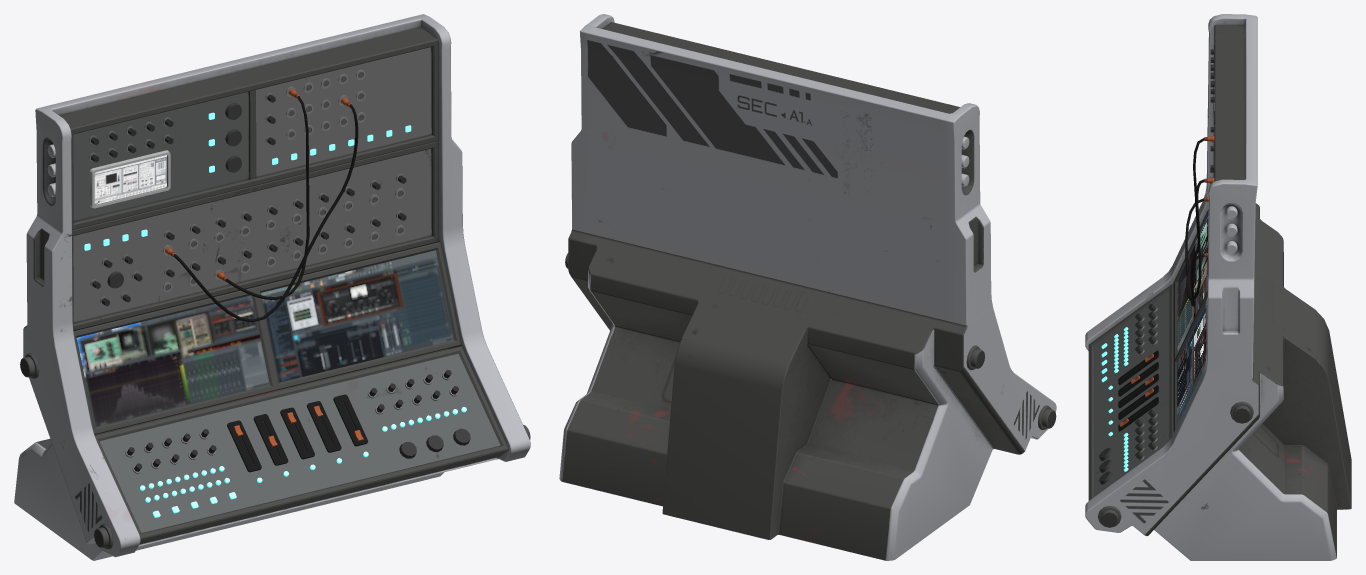
The model's file is synth_machine.fbx.
The picture shows the model from 3 angles, left to right: view 1: azimuth 30°, elevation 25°; view 2: azimuth 150°, elevation 25°; view 3: azimuth 270°, elevation 25°; orthographic projection. The views are drawn at different scales.
Visible parts, largest first — view 1: Object_3, Object_4, Object_2; view 2: Object_4, Object_3; view 3: Object_4, Object_3, Object_2.
Boxes of the visible parts, x1,y1,x2,y2 form: Object_3: (59, 27, 508, 544); Object_4: (14, 14, 530, 560); Object_2: (84, 69, 470, 517); Object_4: (559, 14, 1056, 560); Object_3: (602, 22, 960, 113); Object_4: (1085, 14, 1351, 560); Object_3: (1088, 25, 1244, 500); Object_2: (1098, 49, 1214, 484).
Bounding box in the file's own units: 109 × 106 × 65.67.
